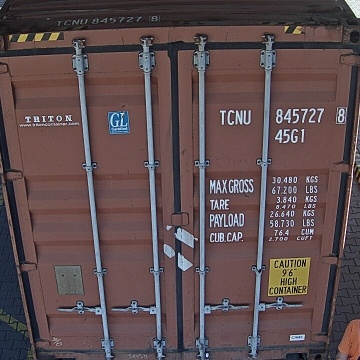serial_id: (220, 107, 346, 124)
